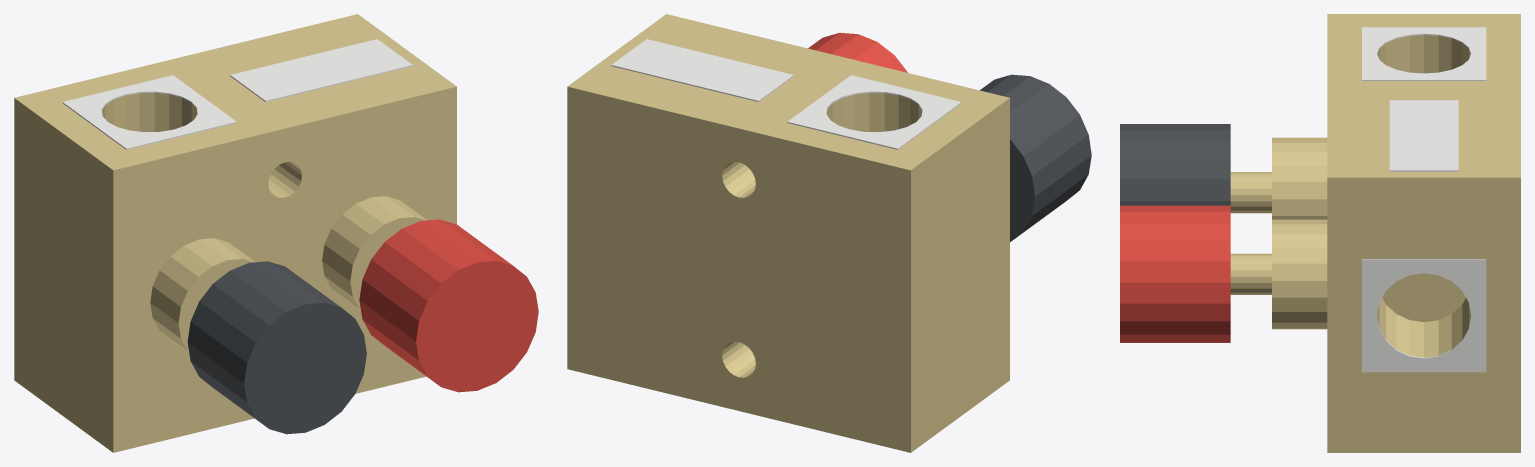
File: manifold-valve.glb
The picture shows the model from 3 angles, left to right: view 1: azimuth 30°, elevation 25°; view 2: azimuth 150°, elevation 25°; view 3: azimuth 270°, elevation 25°; orthographic projection. The views are drawn at different scales.
Visible parts, largest first — view 1: body, knob-bleed, knob-block, port-2; view 2: body, knob-block, port-2, knob-bleed; view 3: body, knob-bleed, knob-block, port-cal, port-2.
Boxes of the visible parts, x1,y1,x2,y2 form: body: (14, 14, 456, 452); knob-bleed: (359, 219, 538, 392); knob-block: (187, 261, 366, 434); port-2: (62, 75, 236, 149); body: (567, 14, 1009, 452); knob-block: (980, 74, 1091, 241); port-2: (787, 75, 961, 149); knob-bleed: (808, 32, 907, 72); body: (1272, 14, 1520, 452); knob-bleed: (1120, 205, 1271, 342); knob-block: (1120, 124, 1271, 213); port-cal: (1362, 259, 1486, 372); port-2: (1362, 27, 1486, 80).
Size of what is drawn, in the model's own units: 0.0562 by 0.0444 by 0.058.
